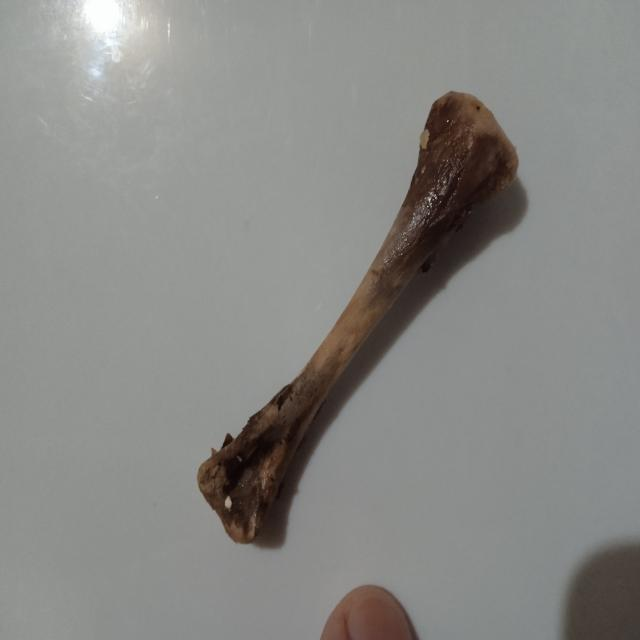bone: (194, 88, 522, 550)
